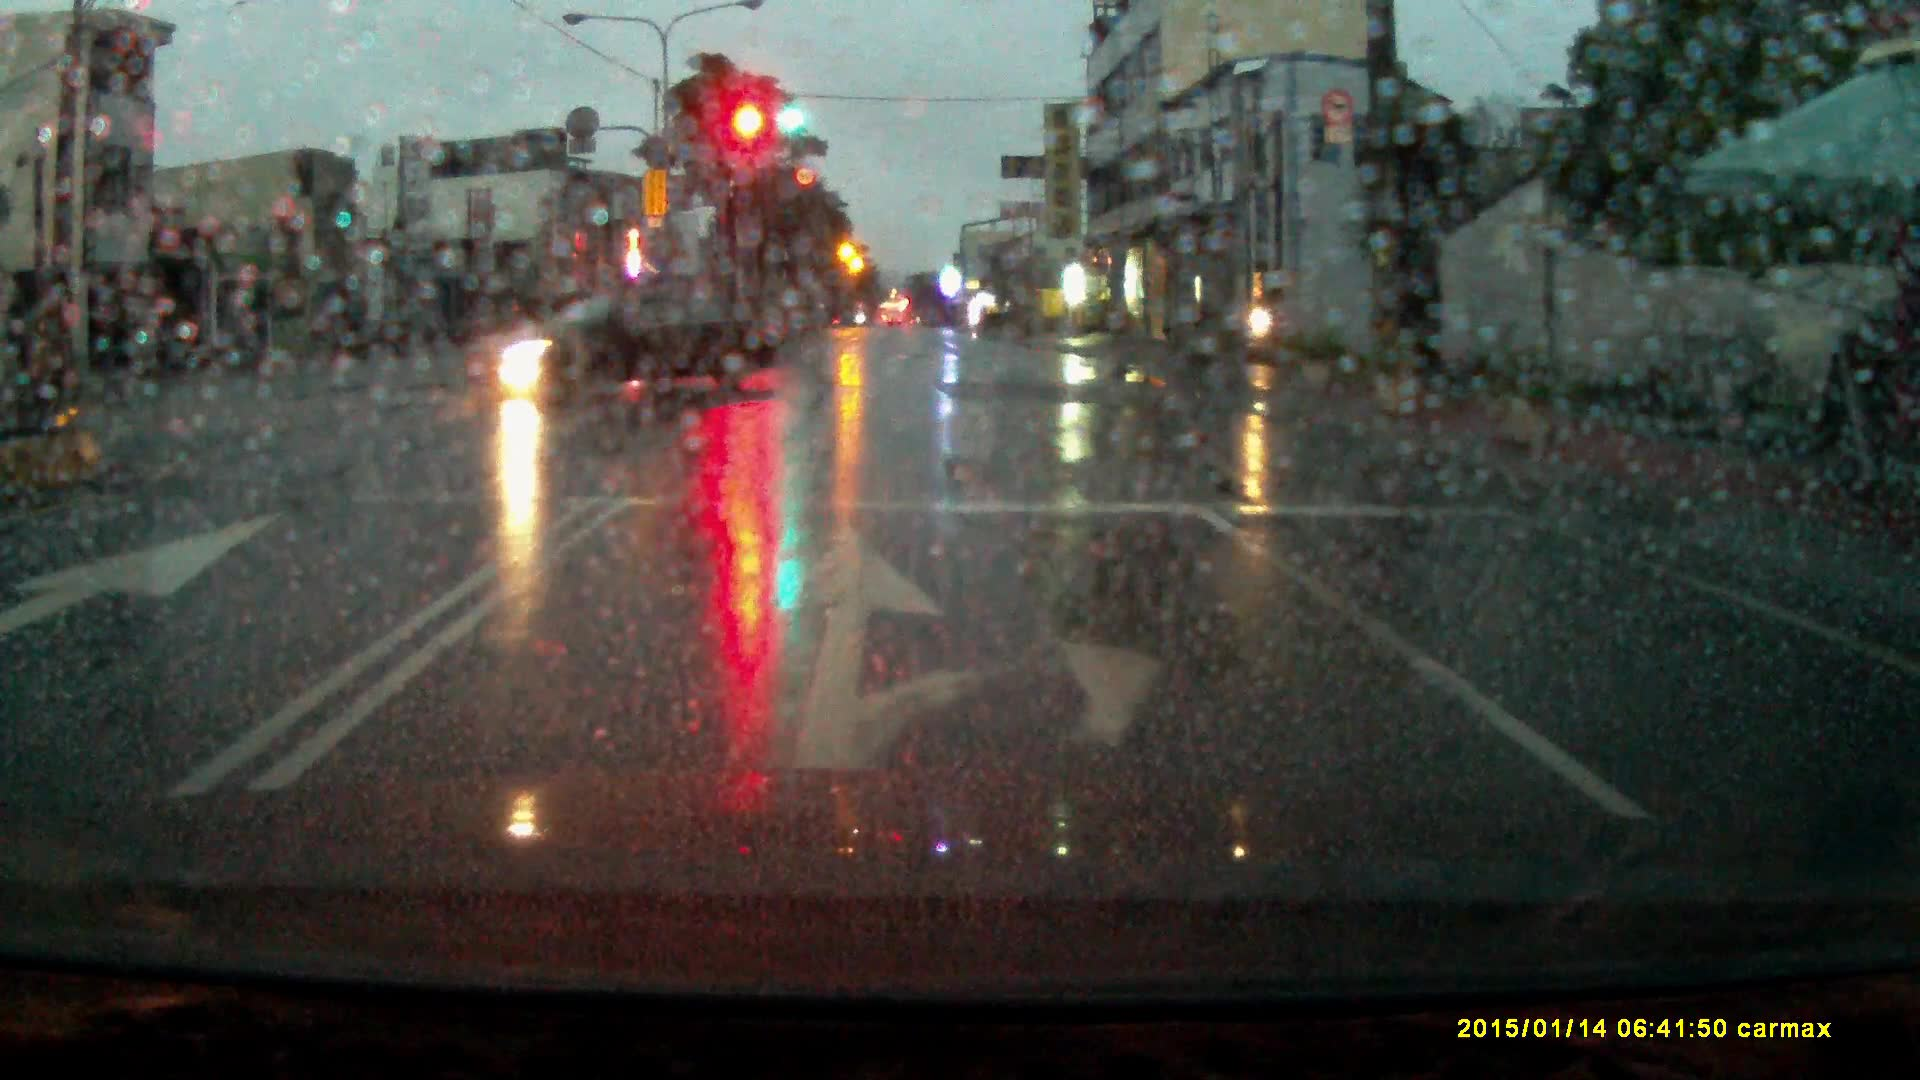rider: (1230, 274, 1305, 375)
vehicle: (458, 289, 783, 397)
